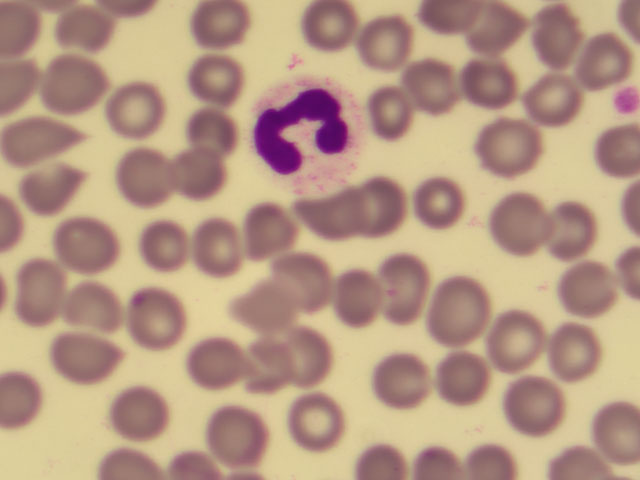Platelets: (612, 87, 640, 118)
RBC: (44, 50, 109, 114), (48, 6, 113, 70), (107, 75, 172, 139), (8, 108, 73, 172), (19, 152, 84, 216), (109, 144, 174, 208), (167, 147, 232, 211), (183, 104, 248, 168), (184, 51, 249, 115), (189, 3, 254, 67), (353, 10, 418, 74), (364, 80, 429, 144), (398, 48, 463, 112), (443, 60, 508, 124), (462, 8, 527, 72), (508, 68, 573, 132), (567, 24, 632, 88), (534, 6, 599, 70), (485, 105, 550, 169), (404, 171, 469, 235), (356, 172, 421, 236), (299, 184, 364, 248), (241, 201, 306, 265), (186, 215, 251, 279), (140, 217, 205, 281), (59, 210, 124, 274), (12, 259, 77, 323), (68, 270, 133, 334), (58, 322, 123, 386), (128, 290, 193, 354), (118, 373, 183, 437), (185, 340, 250, 404), (238, 330, 303, 394), (276, 323, 341, 387), (234, 279, 299, 343), (277, 248, 342, 312), (326, 268, 391, 332), (383, 247, 448, 311), (425, 282, 490, 346), (477, 307, 542, 371), (432, 348, 497, 412), (367, 353, 432, 417), (284, 391, 349, 455), (211, 401, 276, 465), (544, 317, 609, 381), (501, 375, 566, 439), (556, 261, 621, 325), (542, 197, 607, 261), (487, 193, 552, 257), (575, 117, 640, 181), (575, 395, 640, 459), (299, 1, 364, 64), (2, 374, 48, 429)
WBC: (252, 72, 366, 191)
